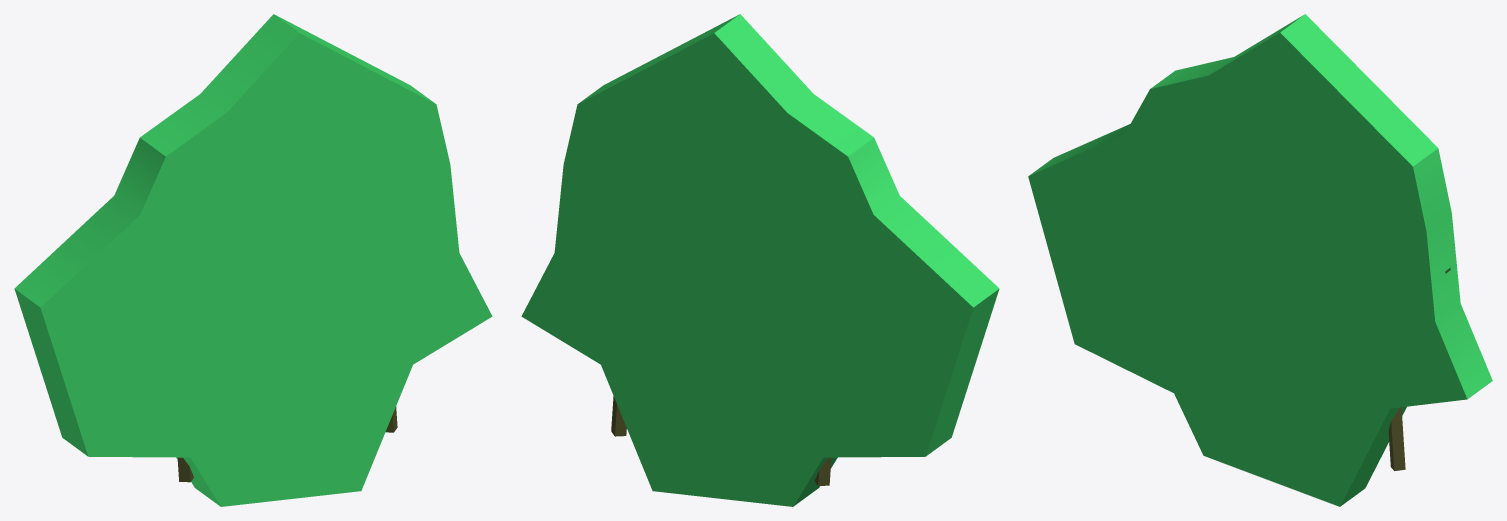
File: 116_plaque_moisissure.fbx
3 renders of one model, left to right at view 1: azimuth 30°, elevation 25°; view 2: azimuth 150°, elevation 25°; view 3: azimuth 330°, elevation 25°, orthographic. The views are drawn at different scales.
Visible parts, largest first — view 1: Lueur; view 2: Lueur, Moisissure; view 3: Lueur, Moisissure.
Part boxes in pixels (bbox=[...]): Lueur: bbox=[14, 14, 492, 506]; Lueur: bbox=[521, 14, 999, 506]; Moisissure: bbox=[611, 396, 831, 485]; Lueur: bbox=[1028, 14, 1492, 506]; Moisissure: bbox=[1388, 268, 1450, 470].
Bounding box in the file's own units: 0.56 × 0.56 × 0.056.
1 material, 1 textured.
